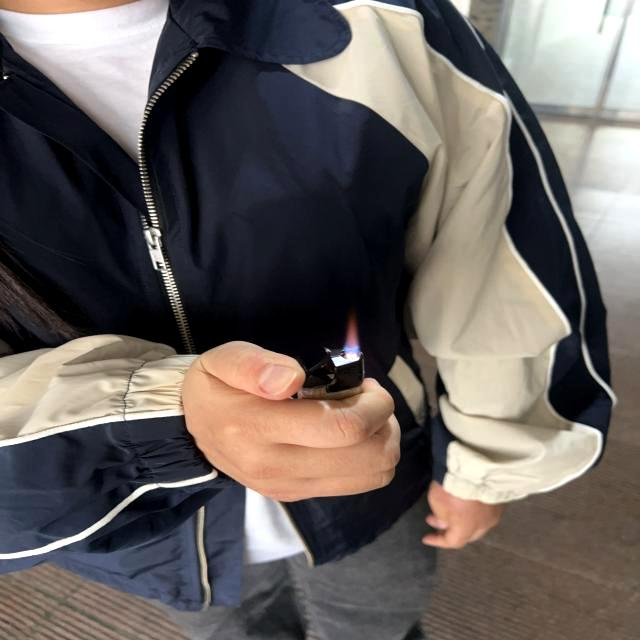fire: (344, 315, 360, 353)
